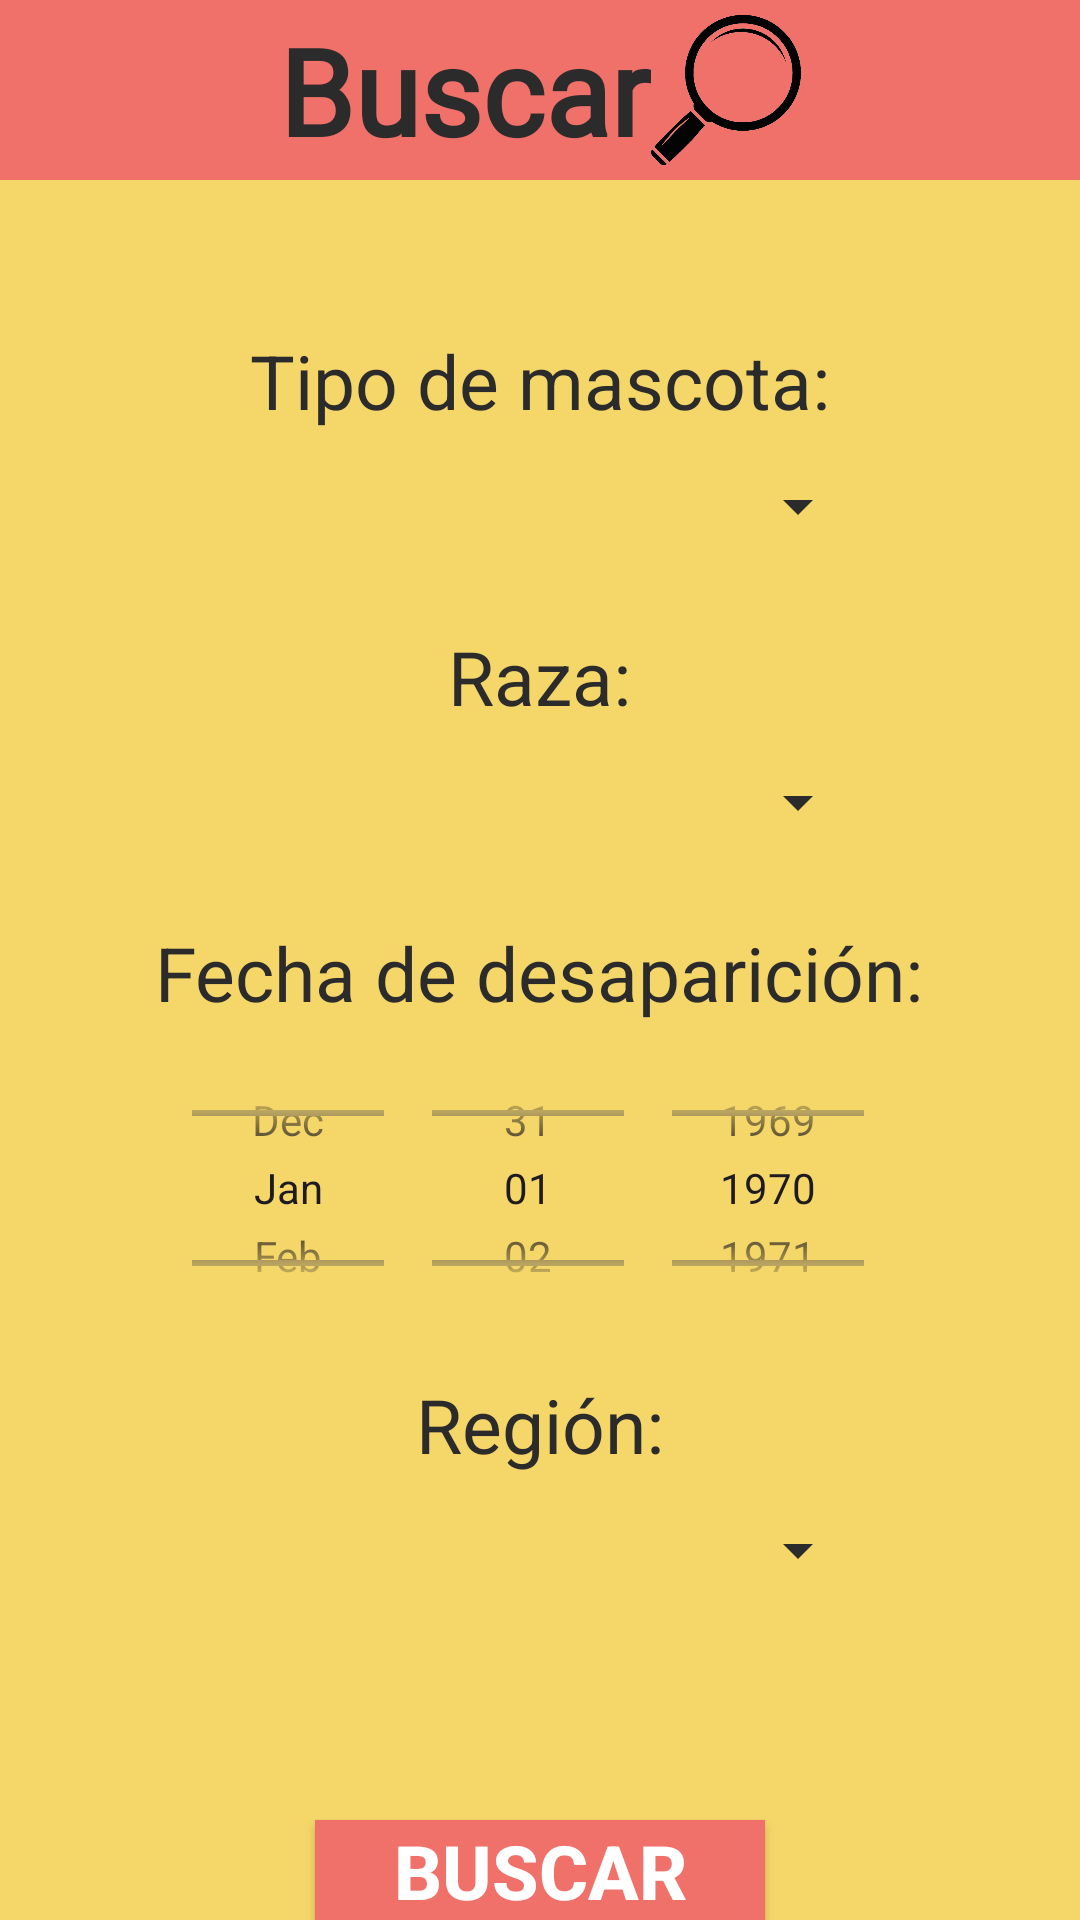

Icon click points for this 1080px x 1920px phone screenshot, format point (x, y):
Icono de busqueda: point (726, 90)
